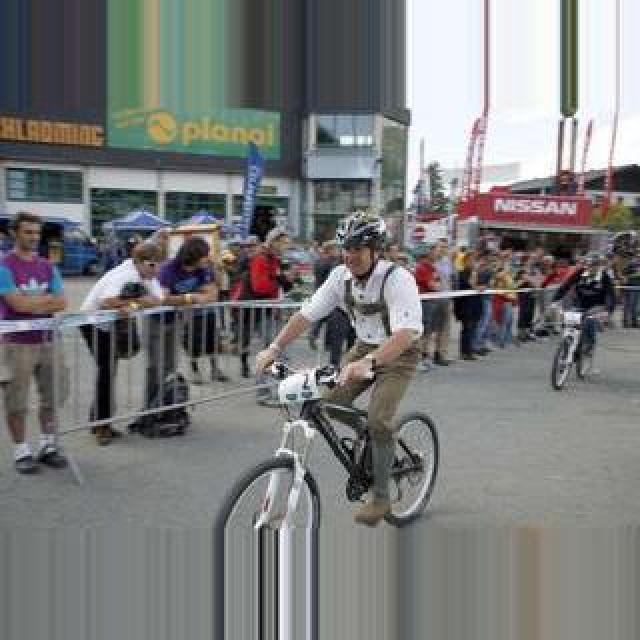MC-Bike: (254, 216, 424, 516), (80, 236, 168, 448), (0, 214, 70, 474), (548, 248, 620, 380), (158, 236, 222, 376), (240, 240, 286, 350)
Person: (214, 360, 444, 528), (550, 302, 612, 390)
